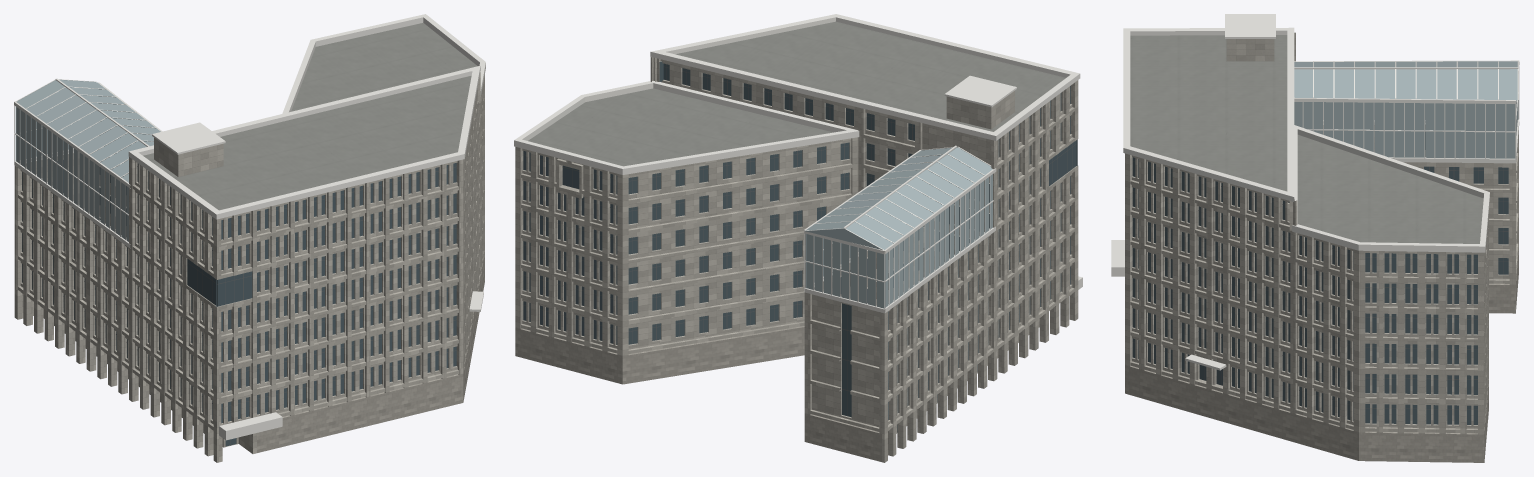
The picture shows the model from 3 angles, left to right: view 1: azimuth 30°, elevation 25°; view 2: azimuth 150°, elevation 25°; view 3: azimuth 270°, elevation 25°; orthographic projection.
Parts seen in each view (by area): view 1: hanaScienceA__stone, hanaScienceA__roof, hanaScienceA__glass, hanaScienceA__trim, hanaScienceA__glassGH, hanaScienceA__granite, hanaScienceA__frame; view 2: hanaScienceA__stone, hanaScienceA__roof, hanaScienceA__trim, hanaScienceA__glass, hanaScienceA__glassGH, hanaScienceA__granite, hanaScienceA__frame; view 3: hanaScienceA__stone, hanaScienceA__roof, hanaScienceA__glass, hanaScienceA__glassGH, hanaScienceA__trim, hanaScienceA__granite, hanaScienceA__frame.
Part boxes in pixels (bbox=[...]): hanaScienceA__stone: bbox=[14, 72, 484, 462]; hanaScienceA__roof: bbox=[143, 23, 477, 210]; hanaScienceA__glass: bbox=[22, 160, 456, 446]; hanaScienceA__trim: bbox=[14, 14, 485, 440]; hanaScienceA__glassGH: bbox=[15, 79, 160, 241]; hanaScienceA__granite: bbox=[257, 254, 484, 452]; hanaScienceA__frame: bbox=[22, 166, 456, 445]; hanaScienceA__stone: bbox=[515, 56, 1078, 462]; hanaScienceA__roof: bbox=[528, 21, 1065, 166]; hanaScienceA__trim: bbox=[514, 14, 1082, 313]; hanaScienceA__glass: bbox=[523, 61, 1077, 432]; hanaScienceA__glassGH: bbox=[805, 147, 992, 308]; hanaScienceA__granite: bbox=[515, 254, 944, 461]; hanaScienceA__frame: bbox=[523, 64, 1076, 415]; hanaScienceA__stone: bbox=[1125, 32, 1518, 434]; hanaScienceA__roof: bbox=[1130, 35, 1483, 243]; hanaScienceA__glass: bbox=[1132, 132, 1508, 424]; hanaScienceA__glassGH: bbox=[1294, 61, 1518, 158]; hanaScienceA__trim: bbox=[1111, 14, 1519, 370]; hanaScienceA__granite: bbox=[1125, 247, 1518, 462]; hanaScienceA__frame: bbox=[1132, 161, 1508, 409].
Bounding box in the file's own units: 56.68 × 37.05 × 51.44.
7 materials, 3 textured.
